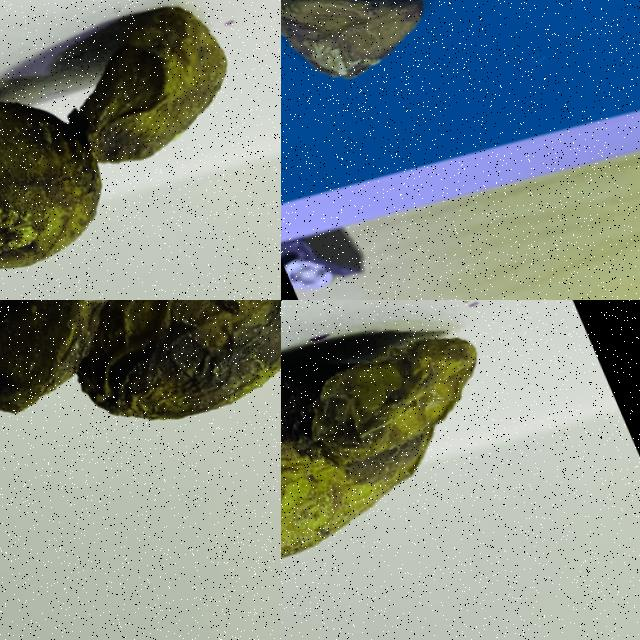Agglomerated_cocoabeans: (281, 300, 595, 639), (0, 300, 280, 600), (0, 0, 280, 299)
Flat_cocoabeans: (281, 0, 509, 156)
